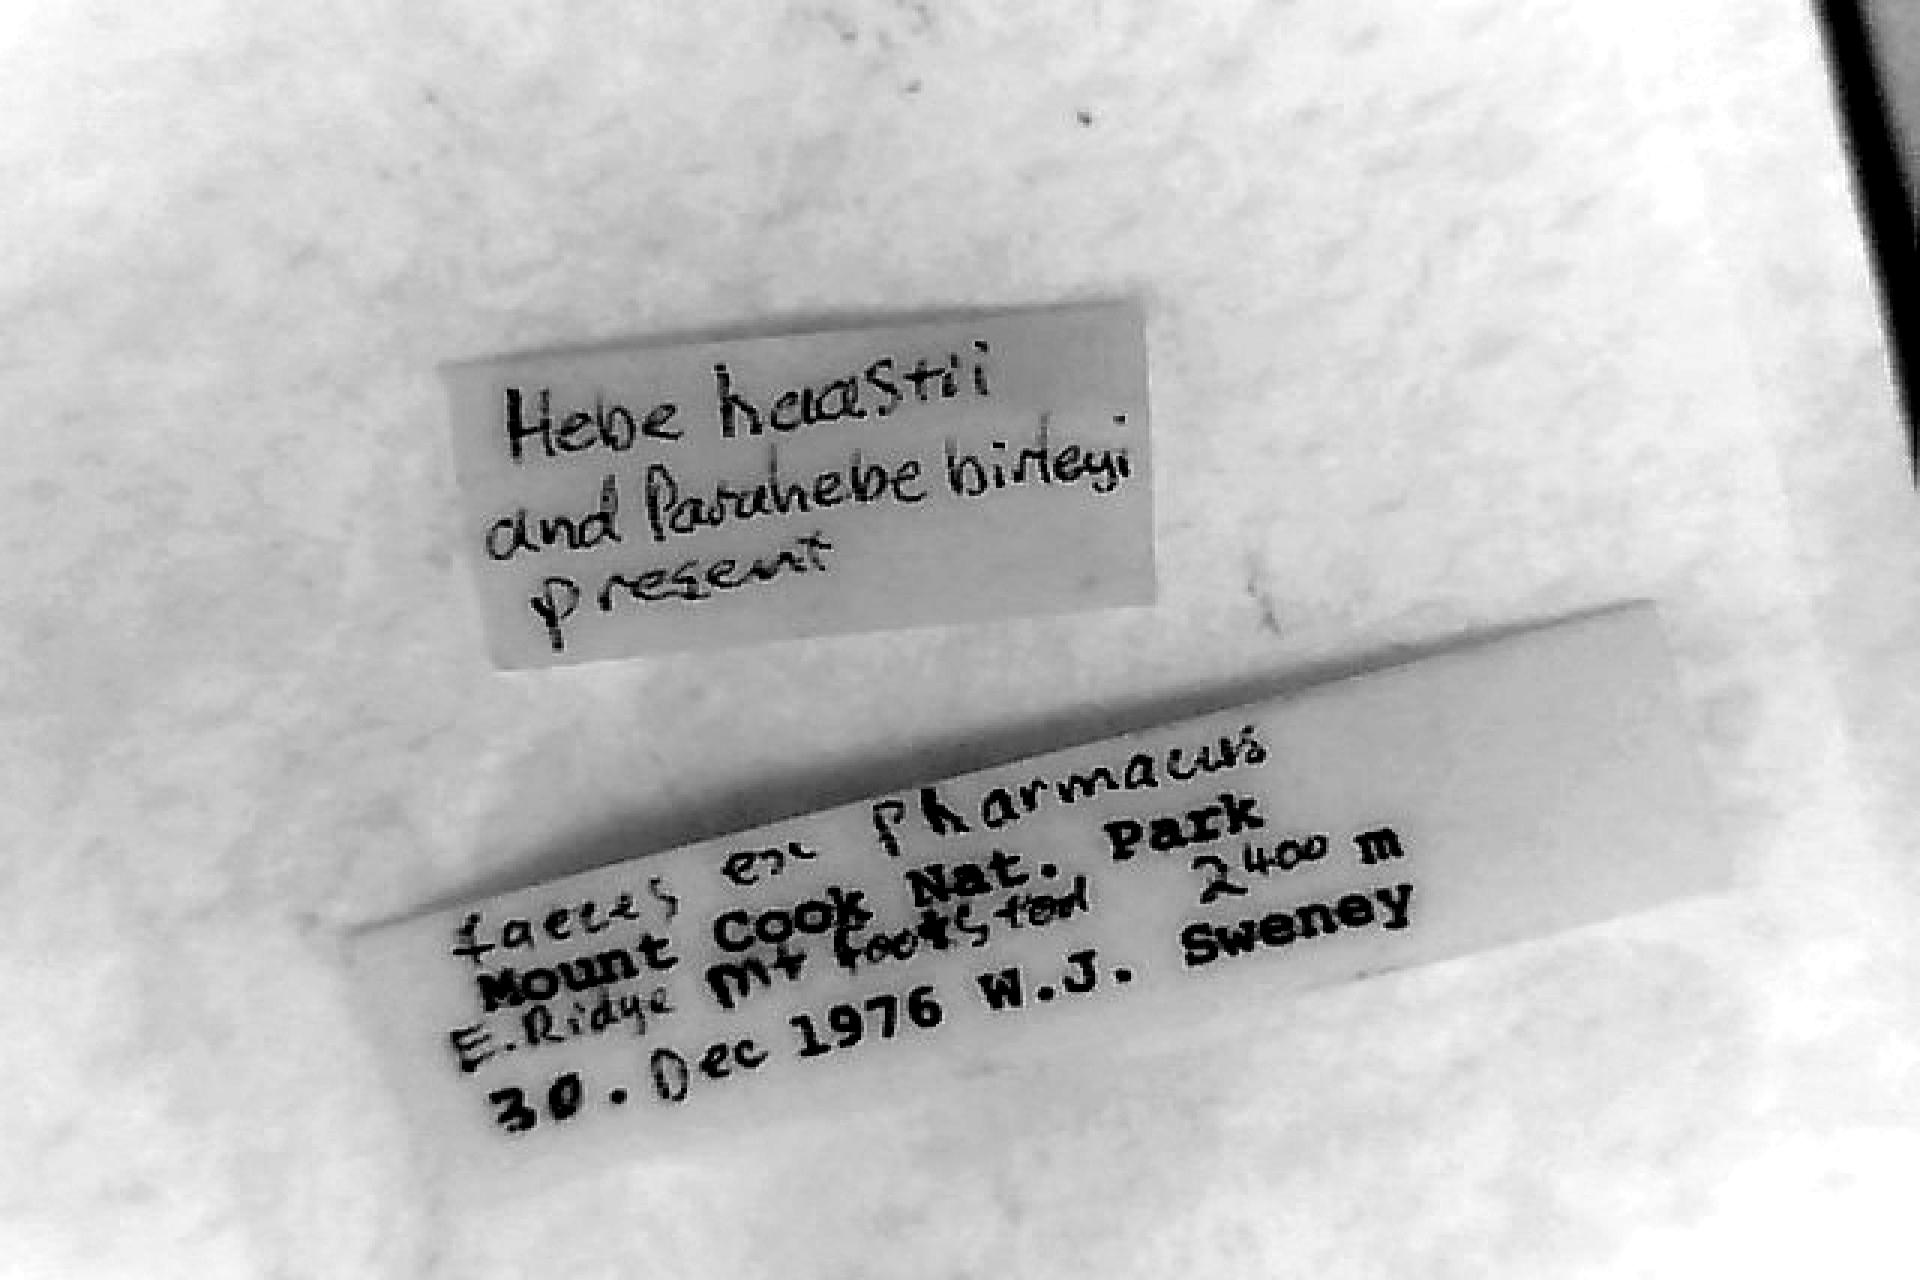hand_label: (451, 303, 1150, 667)
mixed_label: (349, 603, 1721, 1189)
